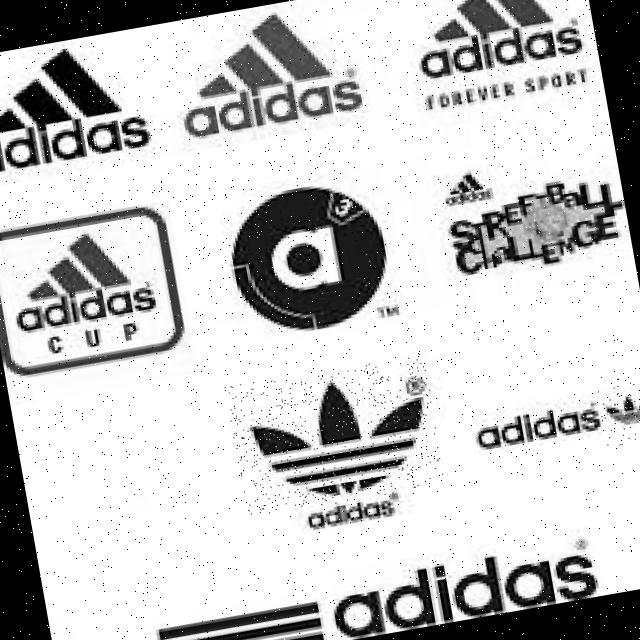Adidas: (224, 352, 446, 519), (595, 372, 640, 449)
